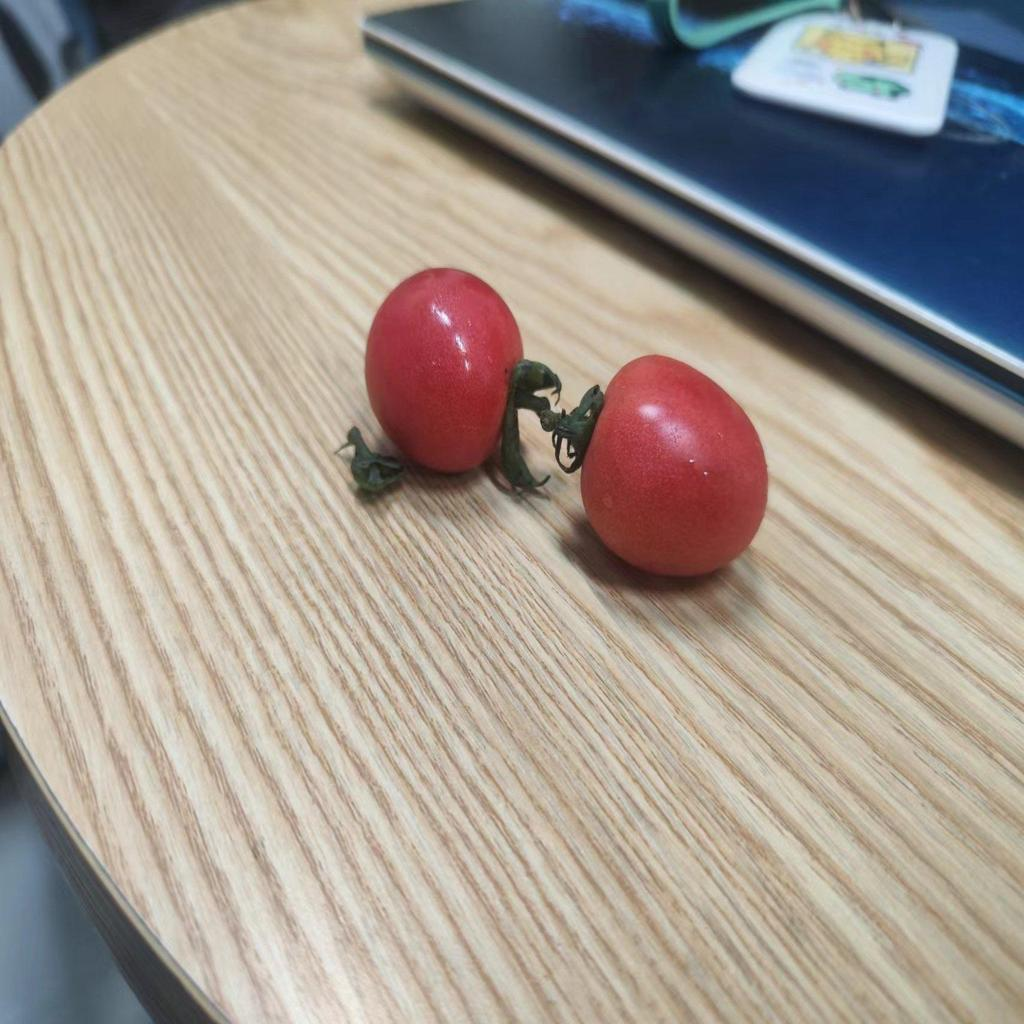tomato: (575, 345, 774, 594), (371, 260, 521, 482)
